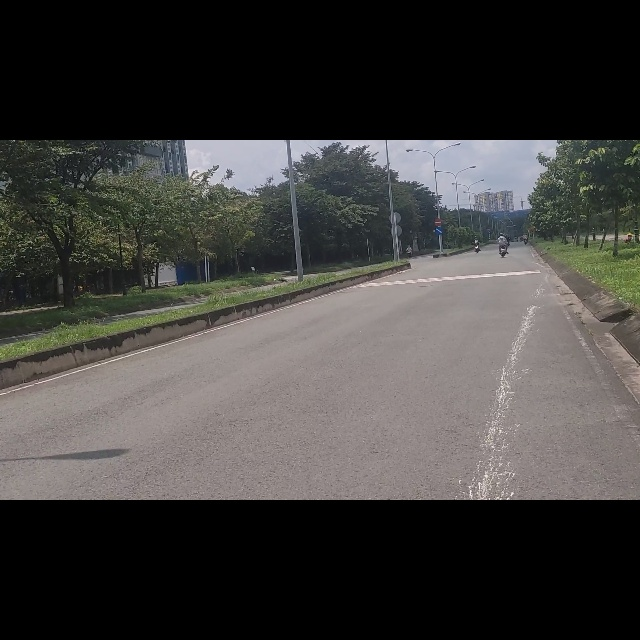bien_hieu_lenh: (434, 139, 442, 153), (435, 155, 443, 168)
